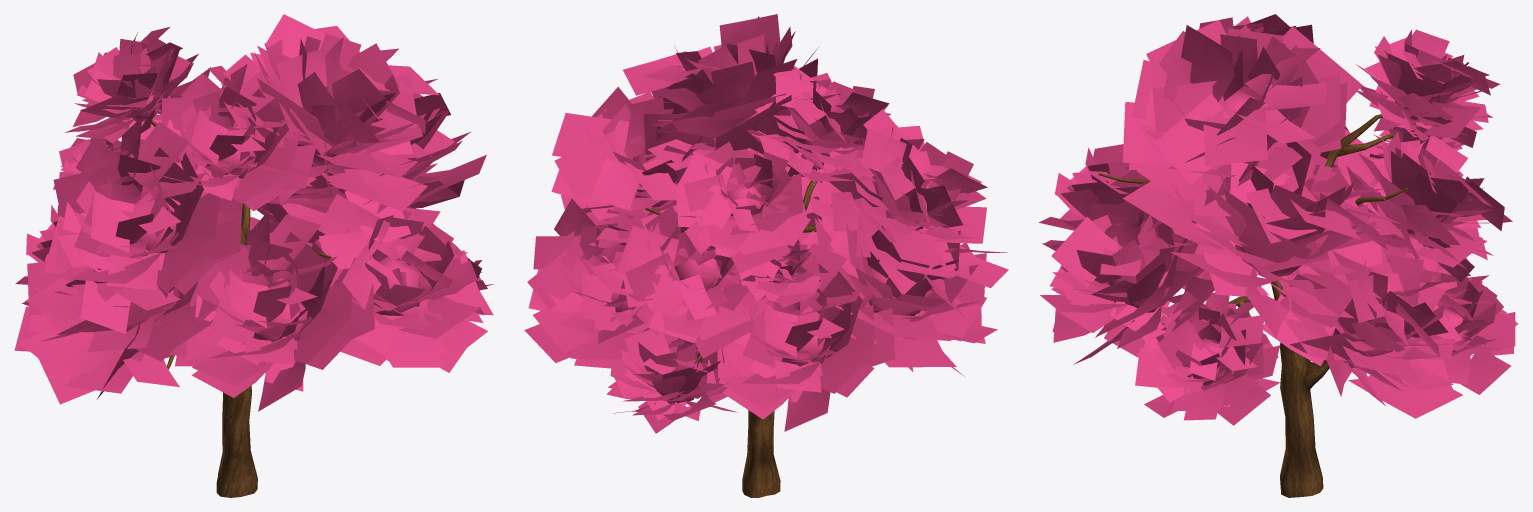
The model's file is TreeLOD_1.fbx.
3 renders of one model, left to right at view 1: azimuth 30°, elevation 25°; view 2: azimuth 150°, elevation 25°; view 3: azimuth 270°, elevation 25°, orthographic. The views are drawn at different scales.
Visible parts, largest first — view 1: TreeLOD_1_foliage, TreeLOD_1_trunk; view 2: TreeLOD_1_foliage, TreeLOD_1_trunk; view 3: TreeLOD_1_foliage, TreeLOD_1_trunk.
Part boxes in pixels (<box>): TreeLOD_1_foliage: <box>14,14,493,411</box>; TreeLOD_1_trunk: <box>146,117,331,497</box>; TreeLOD_1_foliage: <box>524,14,1008,433</box>; TreeLOD_1_trunk: <box>645,150,817,497</box>; TreeLOD_1_foliage: <box>1039,14,1518,425</box>; TreeLOD_1_trunk: <box>1098,114,1470,497</box>.
Bounding box in the file's own units: 4.88 × 4.82 × 4.35.
